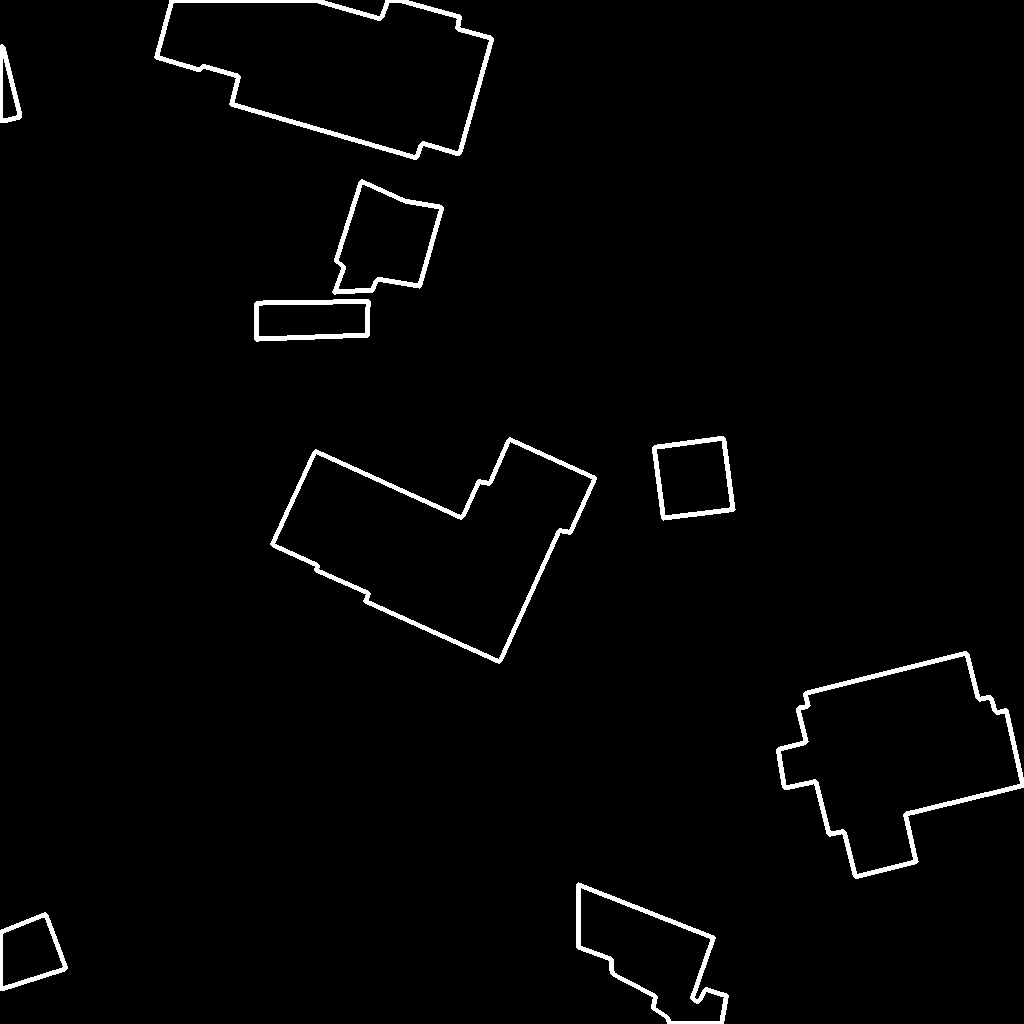building: (272, 439, 596, 663), (778, 653, 1024, 878), (156, 0, 493, 159), (578, 884, 728, 1024), (334, 181, 443, 293), (654, 438, 734, 519), (0, 914, 67, 990), (256, 301, 369, 340), (0, 46, 21, 122)
